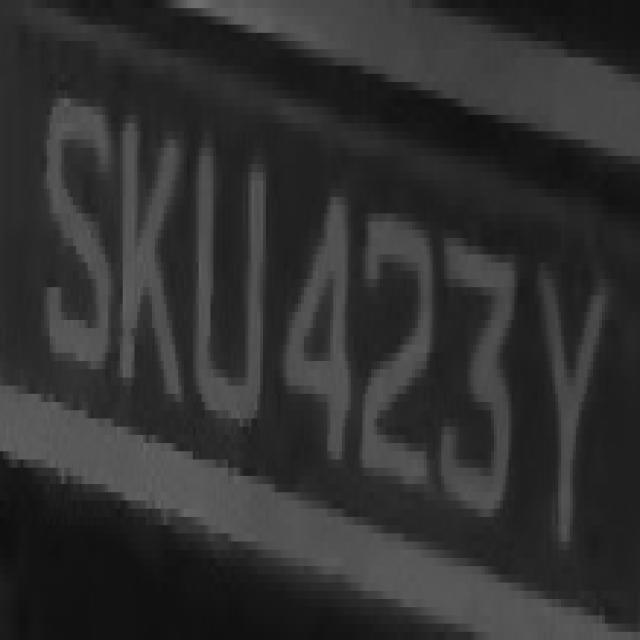2: (357, 172, 444, 525)
3: (441, 213, 532, 558)
4: (278, 140, 356, 492)
K: (108, 106, 178, 426)
S: (41, 58, 117, 410)
U: (184, 123, 278, 468)
Y: (532, 254, 611, 534)
